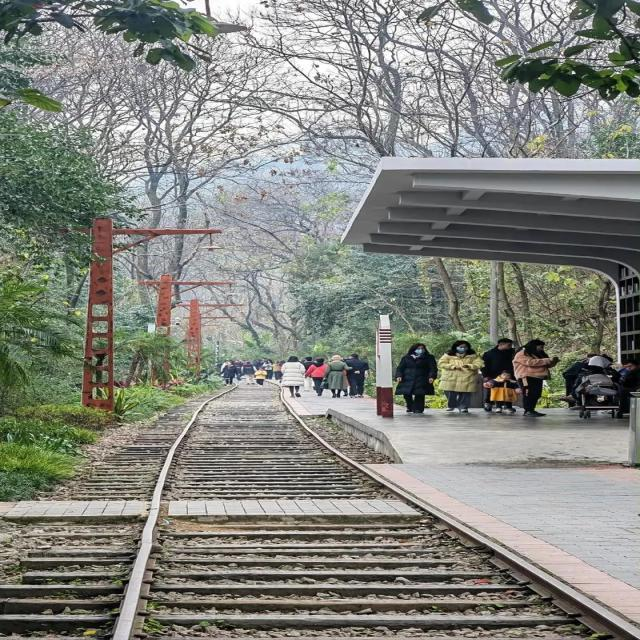people: (393, 335, 441, 410), (438, 340, 482, 411), (517, 335, 552, 420), (485, 336, 520, 410), (278, 354, 310, 398), (489, 372, 521, 412), (302, 359, 330, 397), (327, 351, 348, 394), (250, 365, 276, 386), (220, 359, 235, 384)
